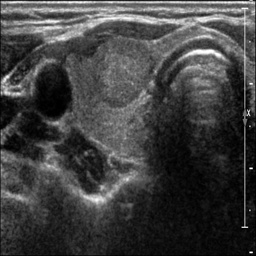mass: (93, 39, 153, 106)
